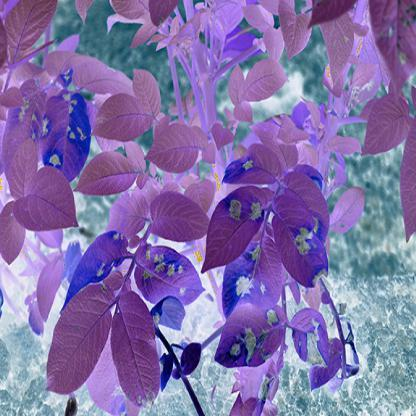Potato leaf late blight: (200, 184, 264, 270), (38, 86, 92, 183), (216, 296, 288, 368), (218, 239, 284, 316), (61, 228, 128, 303), (135, 242, 206, 312), (270, 205, 328, 288), (3, 78, 51, 167), (220, 146, 284, 188), (288, 306, 332, 365)
